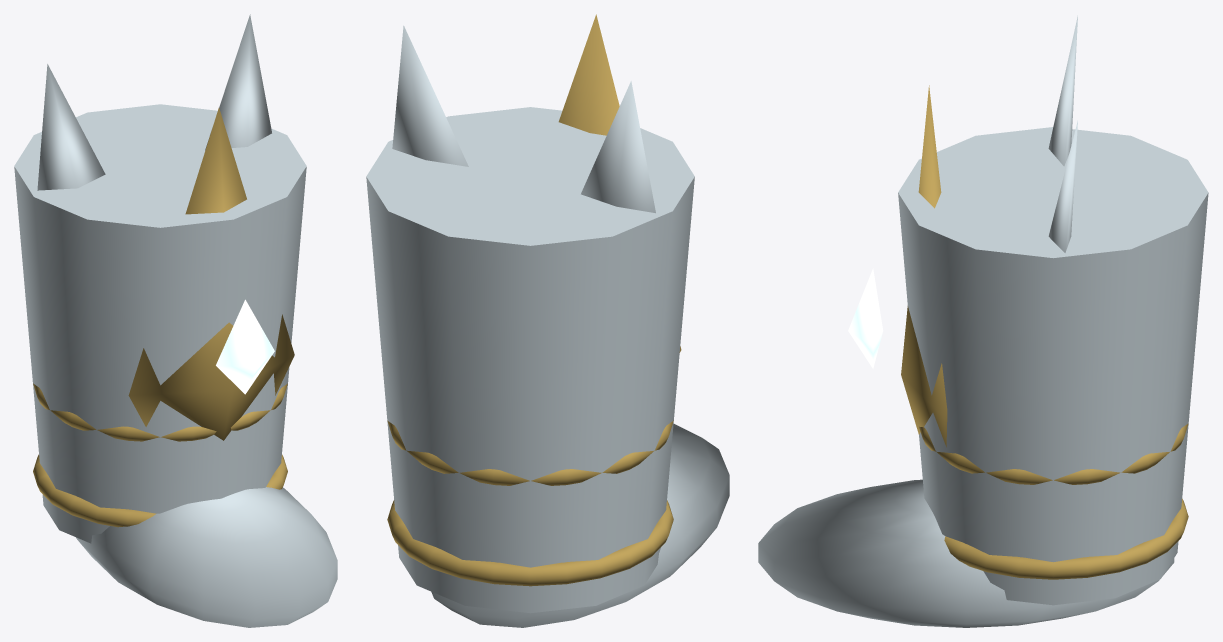
Rendered from boss_truth_of_raikuru_boots_2.glb.
3 renders of one model, left to right at view 1: azimuth 30°, elevation 25°; view 2: azimuth 150°, elevation 25°; view 3: azimuth 270°, elevation 25°, orthographic. The views are drawn at different scales.
Parts seen in each view (by area): view 1: Boss_truth_of_raikuru_0, Boss_truth_of_raikuru_1, Boss_truth_of_raikuru_2; view 2: Boss_truth_of_raikuru_0, Boss_truth_of_raikuru_1; view 3: Boss_truth_of_raikuru_0, Boss_truth_of_raikuru_1, Boss_truth_of_raikuru_2.
Boxes of the visible parts, x1,y1,x2,y2 form: Boss_truth_of_raikuru_0: (14,14,337,627); Boss_truth_of_raikuru_1: (33,108,294,527); Boss_truth_of_raikuru_2: (216,299,274,394); Boss_truth_of_raikuru_0: (366,25,729,627); Boss_truth_of_raikuru_1: (387,14,681,586); Boss_truth_of_raikuru_0: (758,15,1208,627); Boss_truth_of_raikuru_1: (901,85,1188,579); Boss_truth_of_raikuru_2: (848,268,883,368).
Bounding box in the file's own units: 0.25 × 0.482 × 0.3624.
